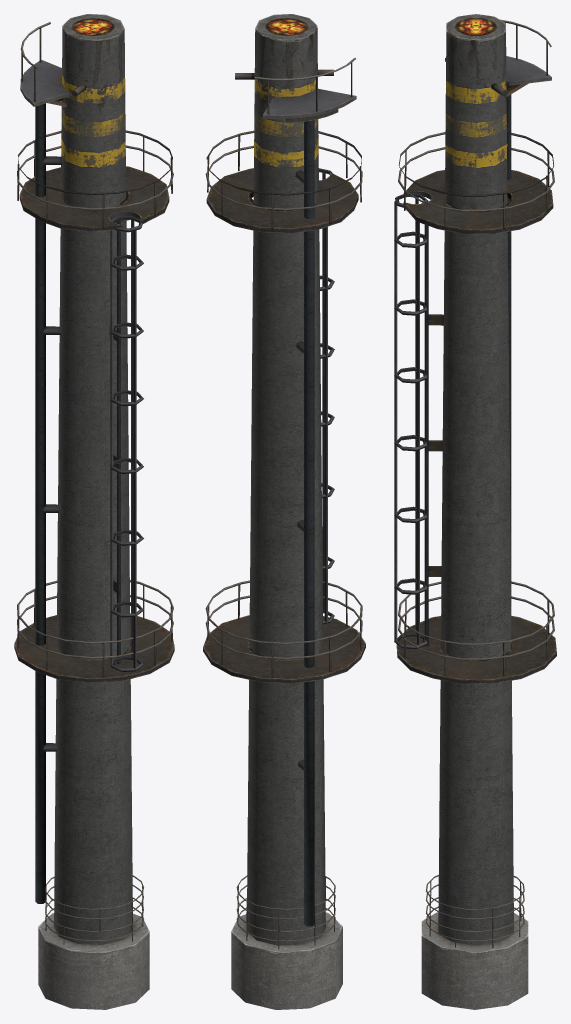
Rendered from chimney_03.FBX.
3 renders of one model, left to right at view 1: azimuth 30°, elevation 25°; view 2: azimuth 150°, elevation 25°; view 3: azimuth 270°, elevation 25°, orthographic.
Parts seen in each view (by area): view 1: Object41236; view 2: Object41236; view 3: Object41236.
Boxes of the visible parts, x1=… form: Object41236: x1=14, y1=14, x2=174, y2=1009; Object41236: x1=203, y1=14, x2=365, y2=1009; Object41236: x1=394, y1=14, x2=556, y2=1009.
Bounding box in the file's own units: 621 × 630 × 4119.
2 materials, 2 textured.
